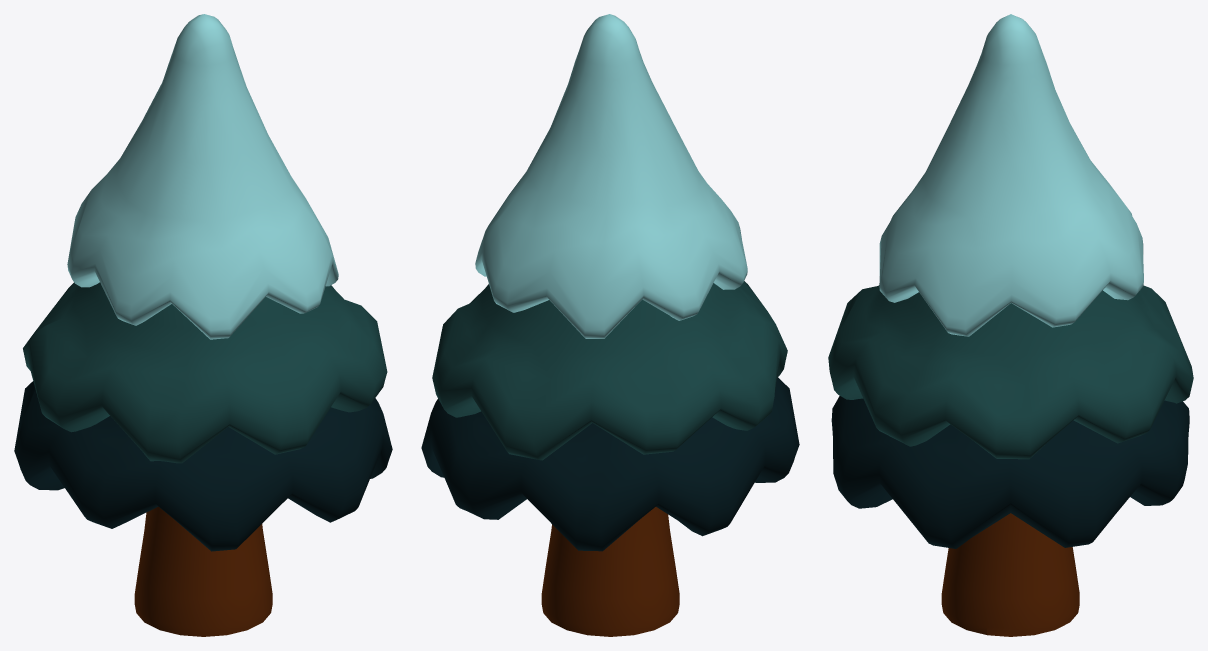
File: Sapin_pointue.fbx
3 renders of one model, left to right at view 1: azimuth 30°, elevation 25°; view 2: azimuth 150°, elevation 25°; view 3: azimuth 270°, elevation 25°, orthographic.
Visible parts, largest first — view 1: Feuilles_Haut_low, Feuilles_Milieu_low, Feuilles_Bas_low, Tronc_low; view 2: Feuilles_Haut_low, Feuilles_Milieu_low, Feuilles_Bas_low, Tronc_low; view 3: Feuilles_Haut_low, Feuilles_Milieu_low, Feuilles_Bas_low, Tronc_low.
Part boxes in pixels (box(x1,y1,x2,y2)): Feuilles_Haut_low: box(67, 14, 338, 339); Feuilles_Milieu_low: box(23, 282, 387, 463); Feuilles_Bas_low: box(14, 381, 392, 551); Tronc_low: box(134, 506, 272, 636); Feuilles_Haut_low: box(475, 14, 747, 338); Feuilles_Milieu_low: box(432, 281, 787, 460); Feuilles_Bas_low: box(421, 377, 799, 551); Tronc_low: box(541, 507, 679, 636); Feuilles_Haut_low: box(879, 14, 1143, 336); Feuilles_Milieu_low: box(828, 285, 1193, 459); Feuilles_Bas_low: box(831, 396, 1189, 548); Tronc_low: box(941, 513, 1079, 636).
Bounding box in the file's own units: 2.94 × 5.29 × 2.95.
